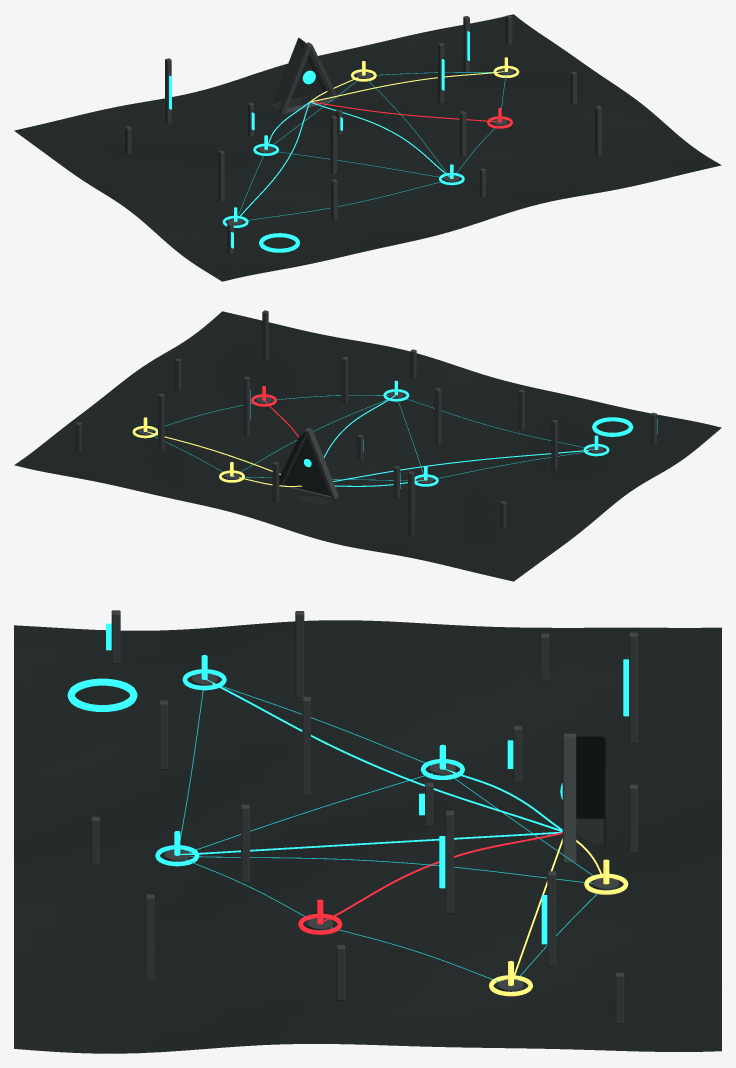
File: clervo-worlds.glb
3 renders of one model, top to bottom at view 1: azimuth 30°, elevation 25°; view 2: azimuth 150°, elevation 25°; view 3: azimuth 270°, elevation 25°, orthographic. The views are drawn at different scales.
Visible parts, largest first — view 1: WorldTerrain, WorldPrismBeacon, WorldPrismFrame_03, WorldTower_06; view 2: WorldTerrain, WorldPrismBeacon, WorldPrismFrame_03, WorldTower_06, WorldTower_04; view 3: WorldTerrain, WorldPrismBeacon, WorldPrismFrame_02, VerifiedOutcomeDock, WorldTower_04, WorldTower_13, WorldTower_10, WorldRoute_01, WorldTower_06, WorldRoute_03, WorldTower_02, WorldTower_11 (+2 smaller).
Part boxes in pixels (x1,y1,x2,y2): WorldTerrain: [14, 14, 721, 281]; WorldPrismBeacon: [272, 37, 329, 109]; WorldPrismFrame_03: [278, 43, 310, 114]; WorldTower_06: [330, 115, 337, 174]; WorldTerrain: [14, 311, 721, 581]; WorldPrismBeacon: [279, 432, 332, 505]; WorldPrismFrame_03: [306, 428, 338, 499]; WorldTower_06: [434, 388, 441, 446]; WorldTower_04: [408, 471, 414, 536]; WorldTerrain: [14, 620, 721, 1053]; WorldPrismBeacon: [576, 736, 605, 853]; WorldPrismFrame_02: [562, 736, 576, 862]; VerifiedOutcomeDock: [67, 678, 137, 711]; WorldTower_04: [629, 632, 637, 743]; WorldTower_13: [547, 871, 556, 967]; WorldTower_10: [445, 810, 453, 913]; WorldRoute_01: [206, 679, 562, 831]; WorldTower_06: [302, 696, 310, 795]; WorldRoute_03: [180, 831, 562, 855]; WorldTower_02: [295, 611, 304, 697]; WorldTower_11: [145, 894, 154, 979].
Size of what is drawn, in the model's own units: 14.4 by 1.87 by 10.4.
